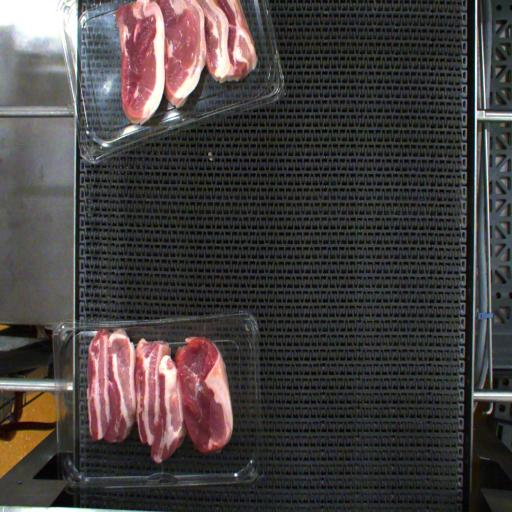packaging-error: (90, 323, 131, 345)
